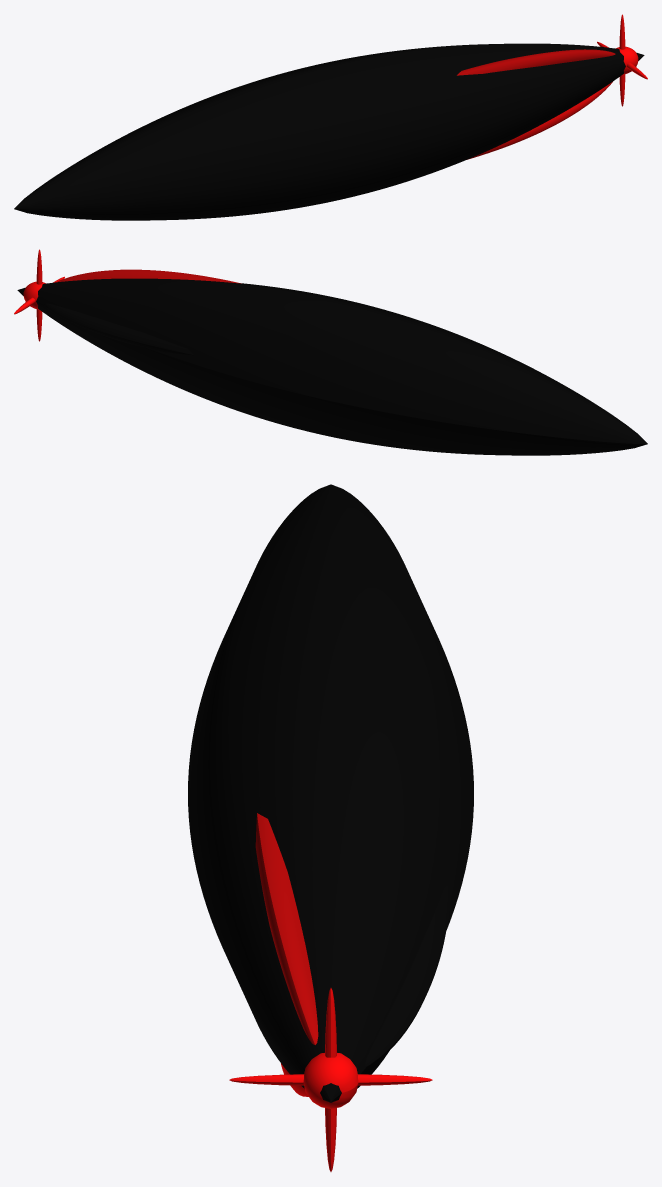
The model's file is SM_DBA_DirectedMissile_V1.fbx.
The picture shows the model from 3 angles, top to bottom: view 1: azimuth 30°, elevation 25°; view 2: azimuth 150°, elevation 25°; view 3: azimuth 270°, elevation 25°; orthographic projection. The views are drawn at different scales.
Parts seen in each view (by area): view 1: SM_DBA_DirectedMissile_V1; view 2: SM_DBA_DirectedMissile_V1; view 3: SM_DBA_DirectedMissile_V1.
Boxes of the visible parts, x1,y1,x2,y2 form: SM_DBA_DirectedMissile_V1: (14,14,647,220); SM_DBA_DirectedMissile_V1: (14,249,647,455); SM_DBA_DirectedMissile_V1: (188,484,473,1171).
Size of the model in its own units: 542 by 107 by 107.
